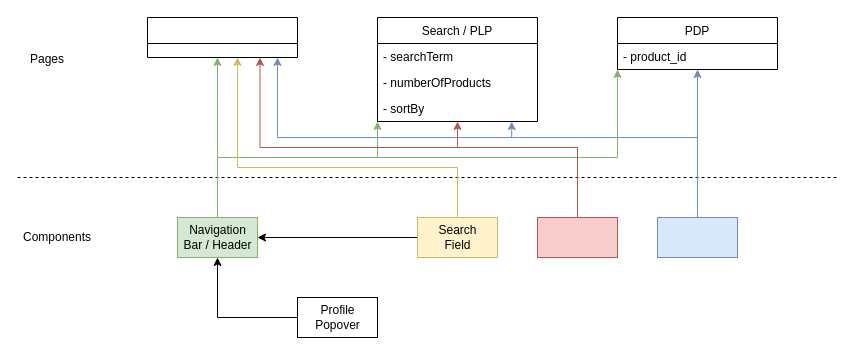
The diagram is 856 pixels wide and 355 high, and some of its shapes have lost their labels. Here are the shapes that lost their labels. From the top down, the centre of each, then its label:
pixel 222 37: Landing / Home - Page
pixel 577 237: Product List
pixel 697 237: Page Footer
